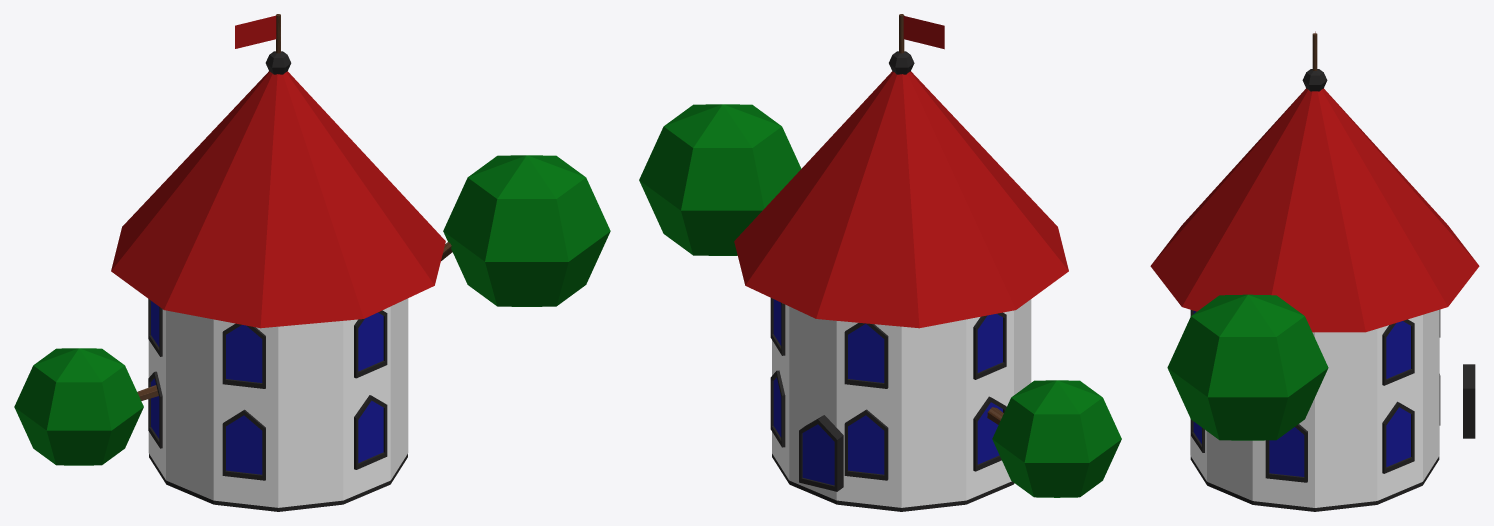
The model's file is LastTower.fbx.
The picture shows the model from 3 angles, left to right: view 1: azimuth 30°, elevation 25°; view 2: azimuth 150°, elevation 25°; view 3: azimuth 270°, elevation 25°; orthographic projection. The views are drawn at different scales.
Parts seen in each view (by area): view 1: Ceilling, Wall, BallLefts, BallLefts.001, Windows.006, Windows.012, Windows.005, Windows.011, GroundThree, Flag2, Windows.001, Windows.007; view 2: Ceilling, Wall, BallLefts, BallLefts.001, Window, Windows.004, Windows.010, Windows.007, Windows.001, GroundThree, Windows.003, Flag1 (+1 smaller); view 3: Ceilling, Wall, BallLefts, Windows.002, Windows.003, Windows.009, GroundThree, Window, FlagSphere.
Part boxes in pixels (x1,y1,x2,y2): Ceilling: [111, 71, 445, 328]; Wall: [148, 298, 408, 507]; BallLefts: [443, 155, 610, 306]; BallLefts.001: [14, 348, 143, 465]; Windows.006: [222, 409, 265, 480]; Windows.012: [222, 323, 265, 388]; Windows.005: [354, 395, 387, 469]; Windows.011: [354, 310, 387, 378]; GroundThree: [149, 454, 407, 511]; Flag2: [235, 15, 276, 48]; Windows.001: [148, 371, 162, 448]; Windows.007: [148, 299, 162, 356]; Ceilling: [734, 71, 1068, 328]; Wall: [772, 299, 1031, 507]; BallLefts: [639, 104, 801, 255]; BallLefts.001: [992, 380, 1121, 497]; Window: [799, 415, 843, 491]; Windows.004: [844, 409, 888, 480]; Windows.010: [844, 323, 888, 388]; Windows.007: [973, 312, 1006, 379]; Windows.001: [973, 396, 1006, 471]; GroundThree: [772, 454, 1014, 511]; Windows.003: [770, 370, 785, 447]; Flag1: [903, 16, 944, 49]; Ceilling: [1150, 88, 1479, 332]; Wall: [1190, 309, 1439, 507]; BallLefts: [1167, 294, 1328, 440]; Windows.002: [1265, 424, 1307, 482]; Windows.003: [1382, 401, 1414, 473]; Windows.009: [1382, 319, 1414, 385]; GroundThree: [1190, 456, 1439, 511]; Window: [1463, 364, 1475, 438]; FlagSphere: [1302, 69, 1327, 91].
Size of the model in its own units: 4482 by 3773 by 2645.
